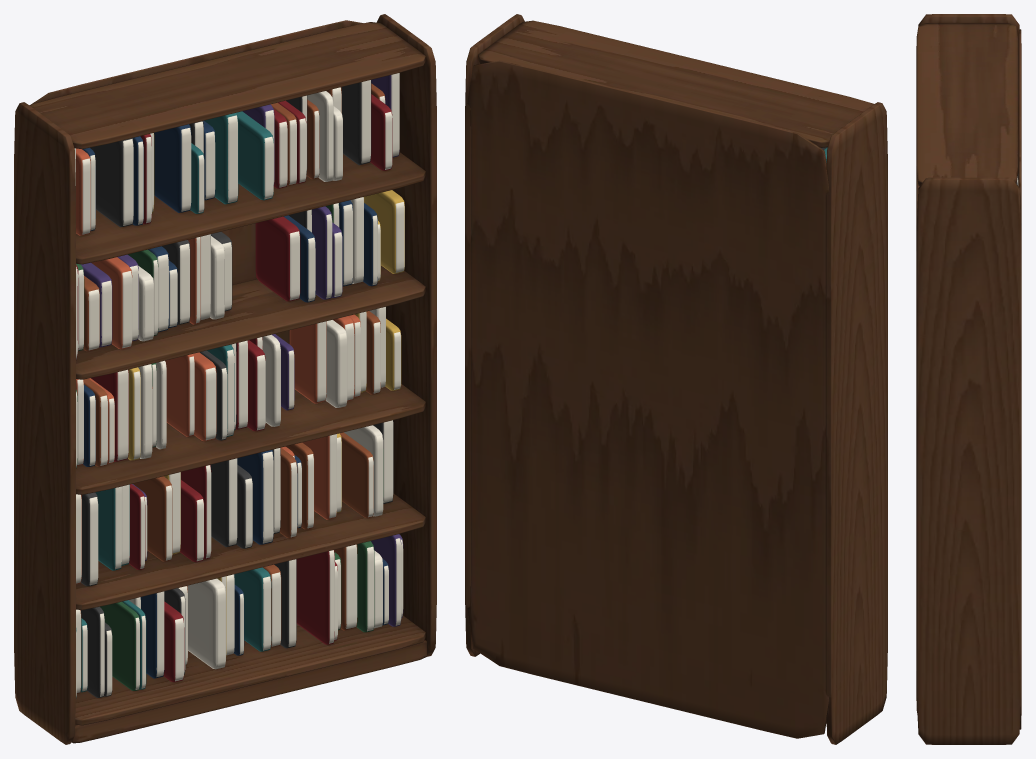
The model's file is walnut-wide.glb.
3 renders of one model, left to right at view 1: azimuth 30°, elevation 25°; view 2: azimuth 150°, elevation 25°; view 3: azimuth 270°, elevation 25°, orthographic. The views are drawn at different scales.
Parts seen in each view (by area): view 1: wood_x, book_pages, wood_v, book_7a1f24, book_3b3b3b, book_b85a3c, book_8a4a2c, book_e7e0d0, book_1f3550, book_2c6a6a, book_4a3a6a, book_2f5a3a (+1 smaller); view 2: wood_v, wood_x; view 3: wood_v, wood_x.
Part boxes in pixels (x1,y1,x2,y2): wood_x: (29,22,426,743); book_pages: (74,73,404,696); wood_v: (14,14,436,744); book_7a1f24: (76,94,392,682); book_3b3b3b: (81,80,393,697); book_b85a3c: (76,148,360,584); book_8a4a2c: (76,83,385,693); book_e7e0d0: (129,91,385,669); book_1f3550: (82,120,388,678); book_2c6a6a: (76,111,273,698); book_4a3a6a: (81,75,403,626); book_2f5a3a: (76,203,383,690); wood_v: (465,14,887,744); wood_x: (478,20,873,723); wood_v: (916,14,1021,744); wood_x: (916,23,1018,714).
Size of the model in its own units: 1.2 by 1.9 by 0.32.
Materials: 13 (2 with a texture image).
